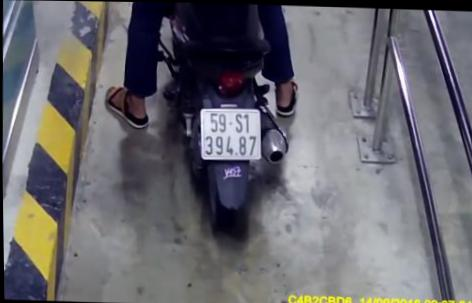LP: (197, 103, 264, 161)
